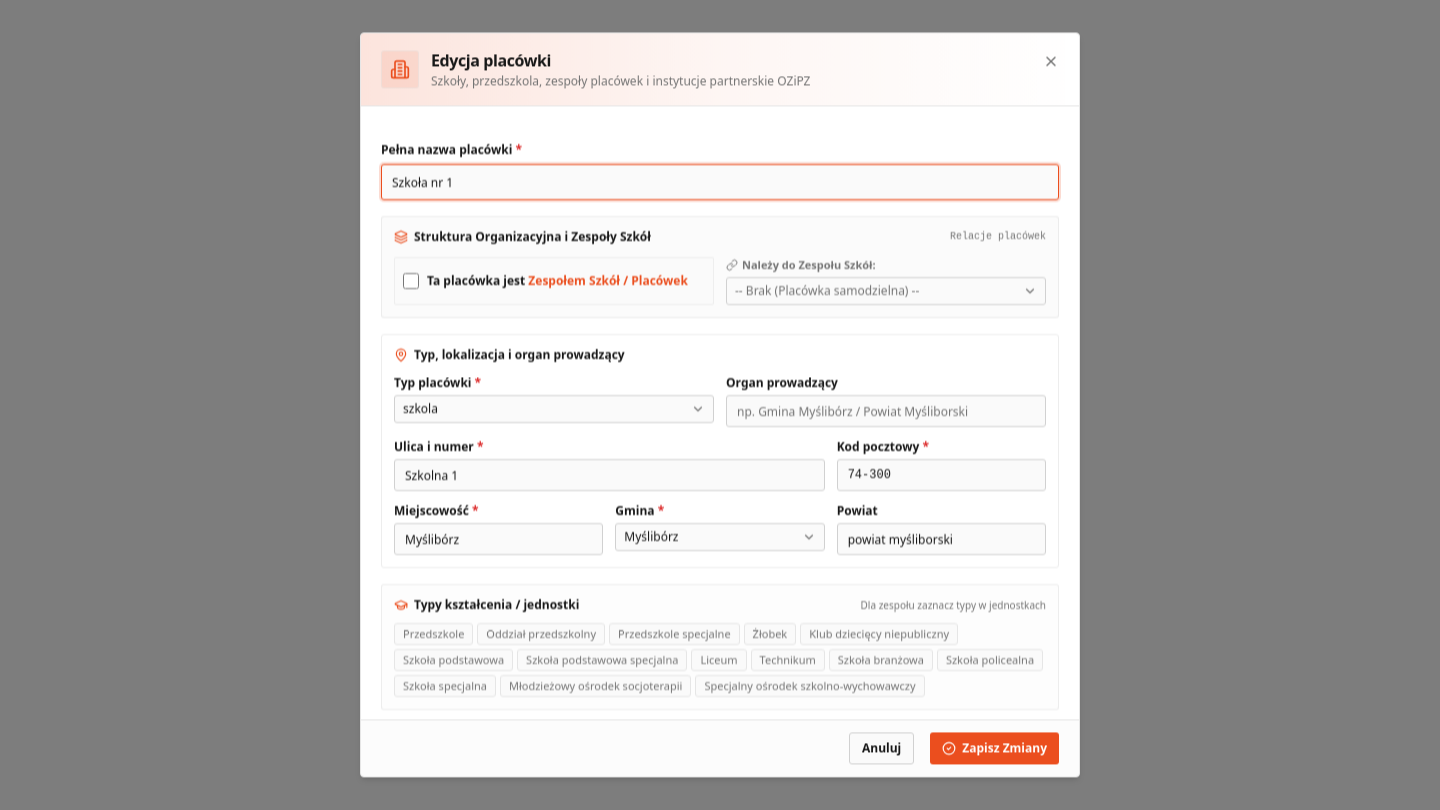
Test case: offers only marked top-level school complexes as parents
What coordinates should you click on to do the following:
click the button "-- Brak (Placówka samodzielna) --"
I would click on:
 (886, 291)
Its box is x1=726 y1=277 x2=1046 y2=305.
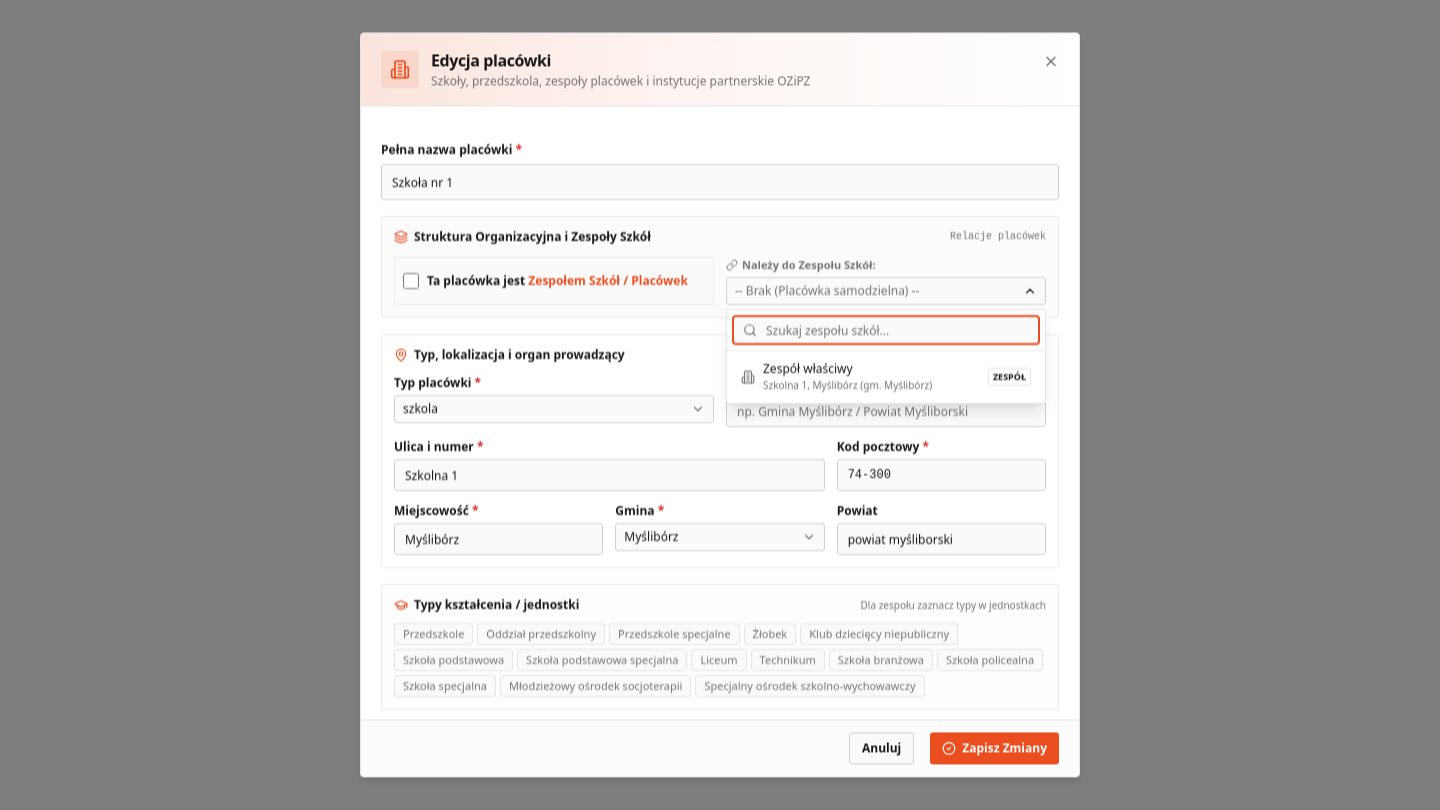
Result: the text "Zespół właściwy" is shown at x1=763 y1=360 x2=853 y2=377
